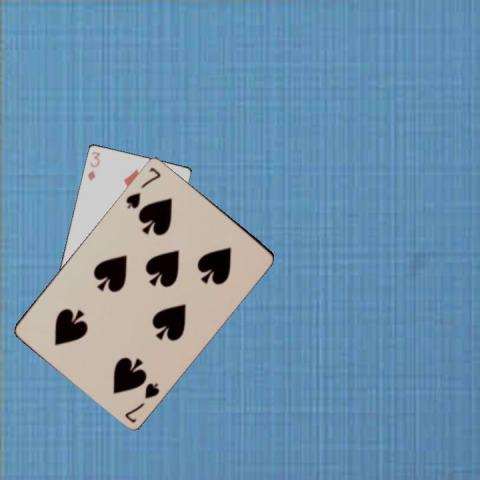3d: (85, 148, 101, 182)
7s: (123, 163, 162, 210), (121, 379, 161, 424)
